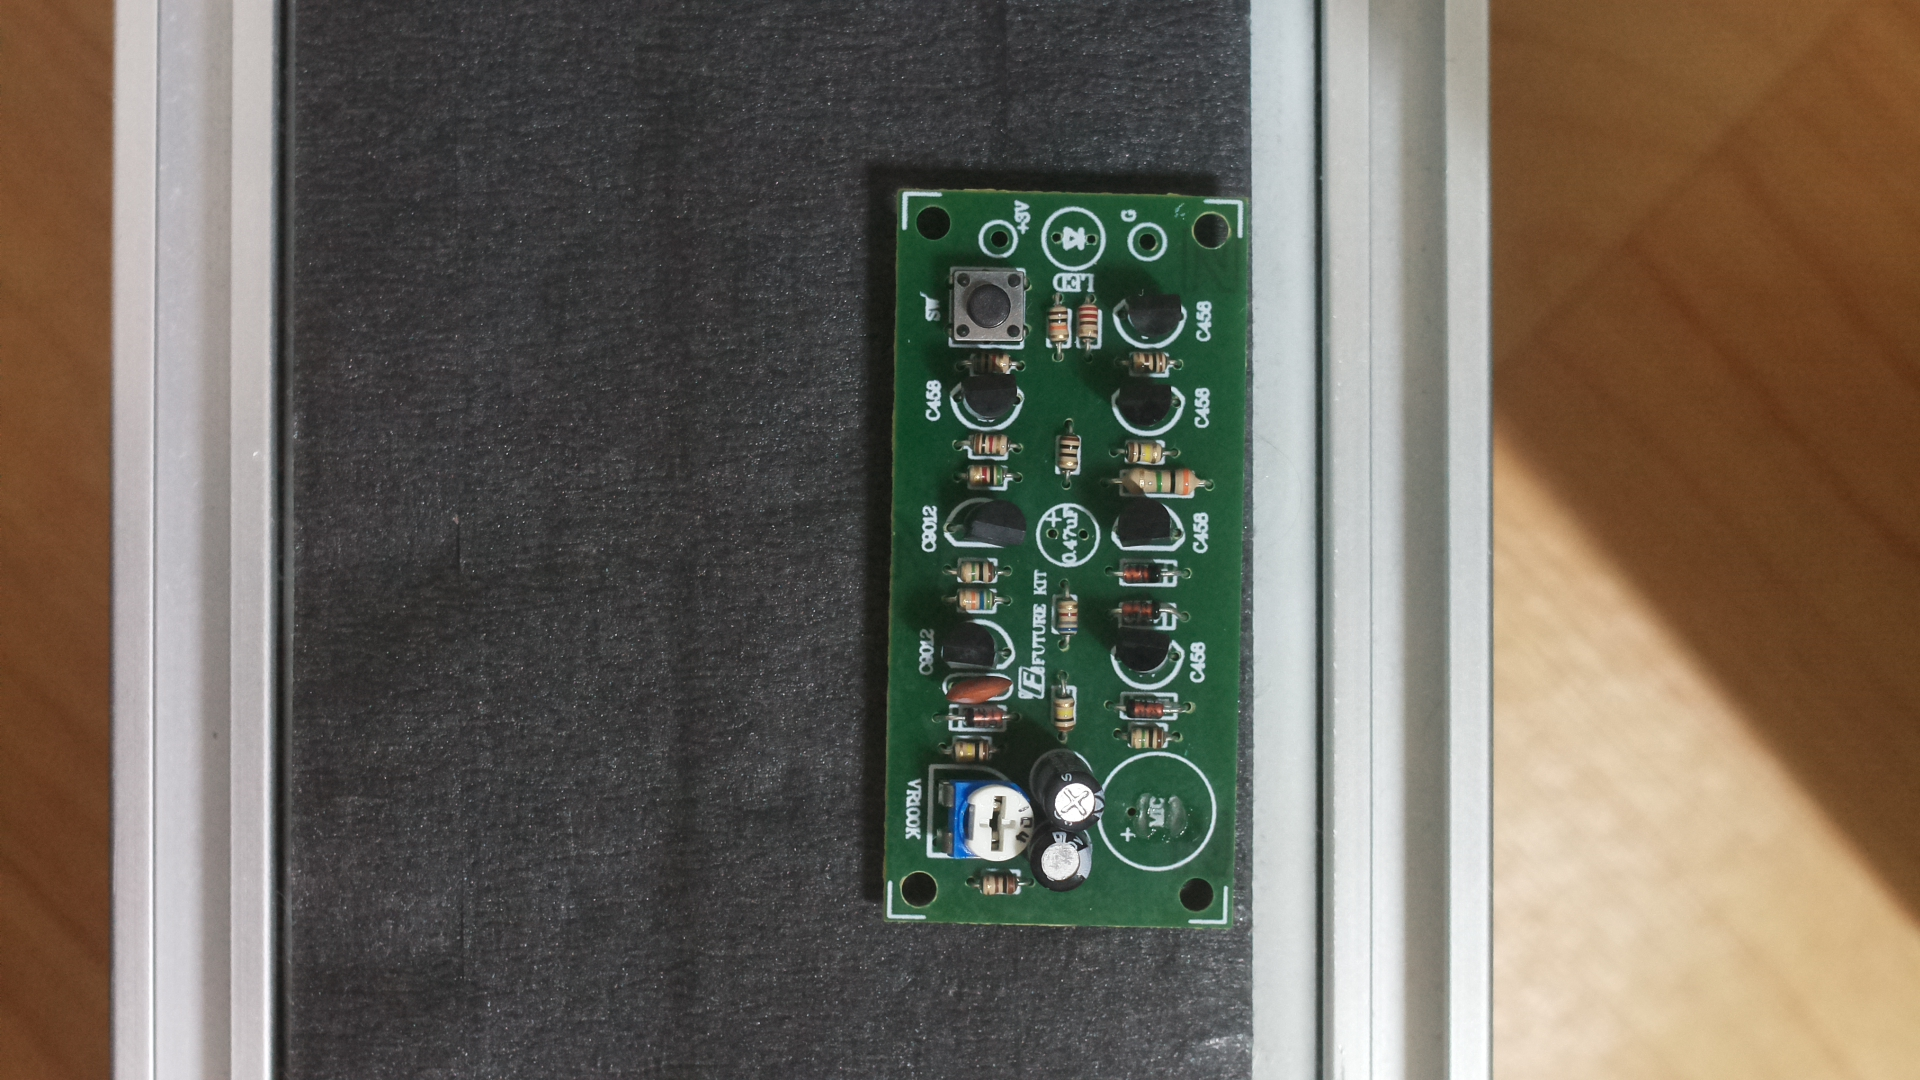A_Missing_part: (882, 175, 1246, 948)
